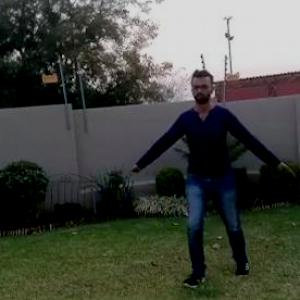land: (151, 84, 273, 251)
